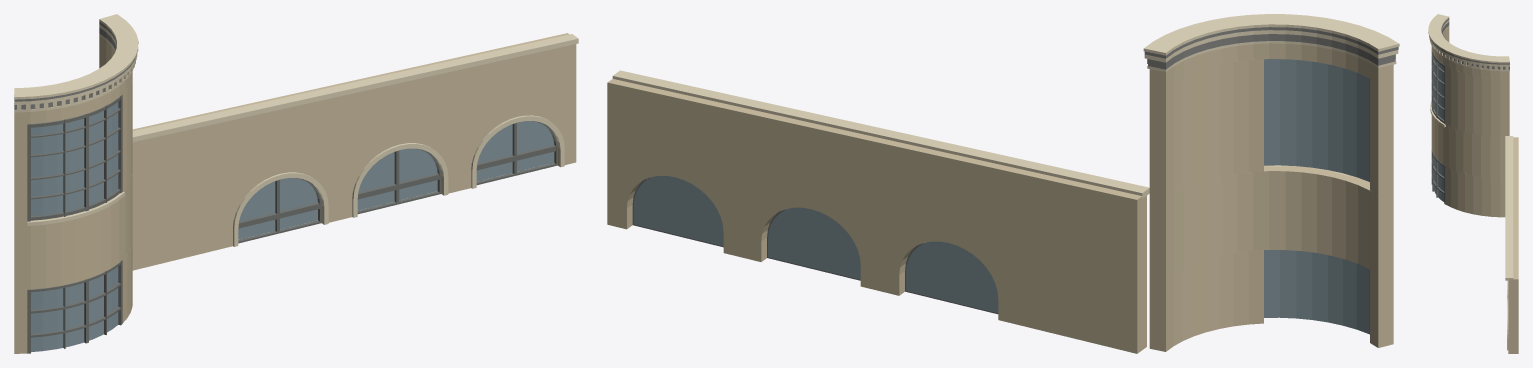
The model's file is xuhui-xiangyang-south-362-courtyard-arcade-lod.glb.
3 renders of one model, left to right at view 1: azimuth 30°, elevation 25°; view 2: azimuth 150°, elevation 25°; view 3: azimuth 270°, elevation 25°, orthographic. The views are drawn at different scales.
Visible parts, largest first — view 1: 襄阳南路362号照片所见院侧三券与弧形檐; view 2: 襄阳南路362号照片所见院侧三券与弧形檐; view 3: 襄阳南路362号照片所见院侧三券与弧形檐.
Boxes of the visible parts, x1,y1,x2,y2 form: 襄阳南路362号照片所见院侧三券与弧形檐: (14, 14, 578, 353); 襄阳南路362号照片所见院侧三券与弧形檐: (607, 14, 1399, 353); 襄阳南路362号照片所见院侧三券与弧形檐: (1428, 14, 1518, 353).
Bounding box in the file's own units: 10.78 × 4.31 × 2.25.
